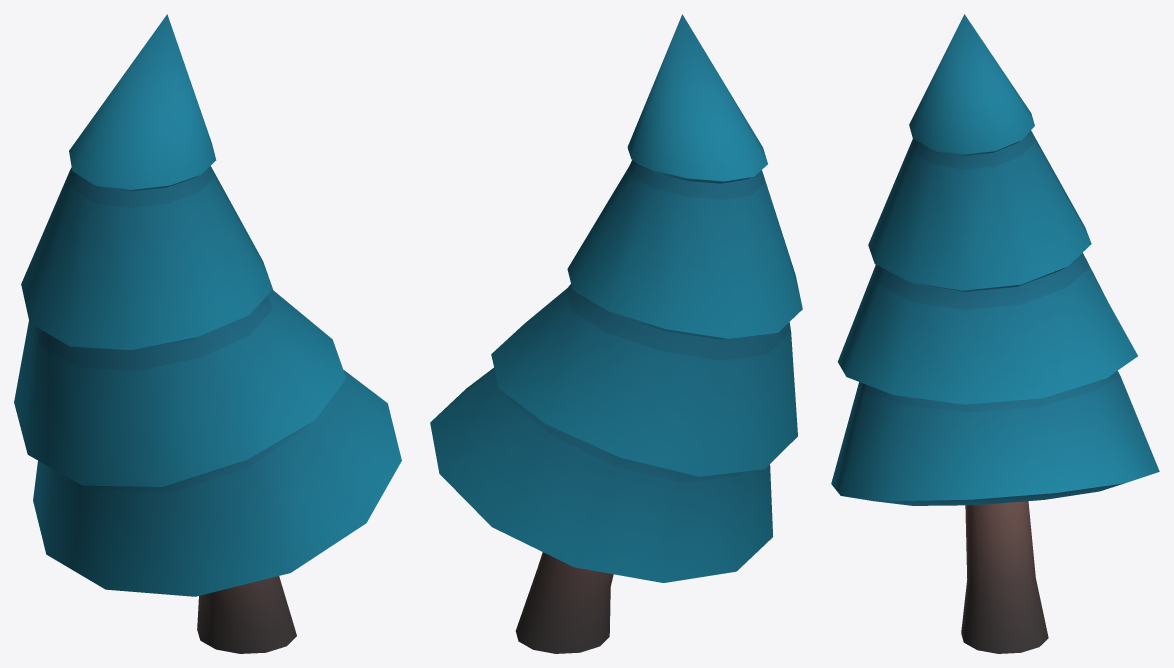
The model's file is Ёлка2.fbx.
3 views of the same model, side by side, from view 1: azimuth 30°, elevation 25°; view 2: azimuth 150°, elevation 25°; view 3: azimuth 270°, elevation 25° (orthographic). The views are drawn at different scales.
Parts seen in each view (by area): view 1: Ёлка2; view 2: Ёлка2; view 3: Ёлка2.
Part boxes in pixels (x1,y1,x2,y2): Ёлка2: (14,14,401,653); Ёлка2: (430,14,802,653); Ёлка2: (831,14,1159,653).
Size of the model in its own units: 61.86 by 114 by 58.69.
